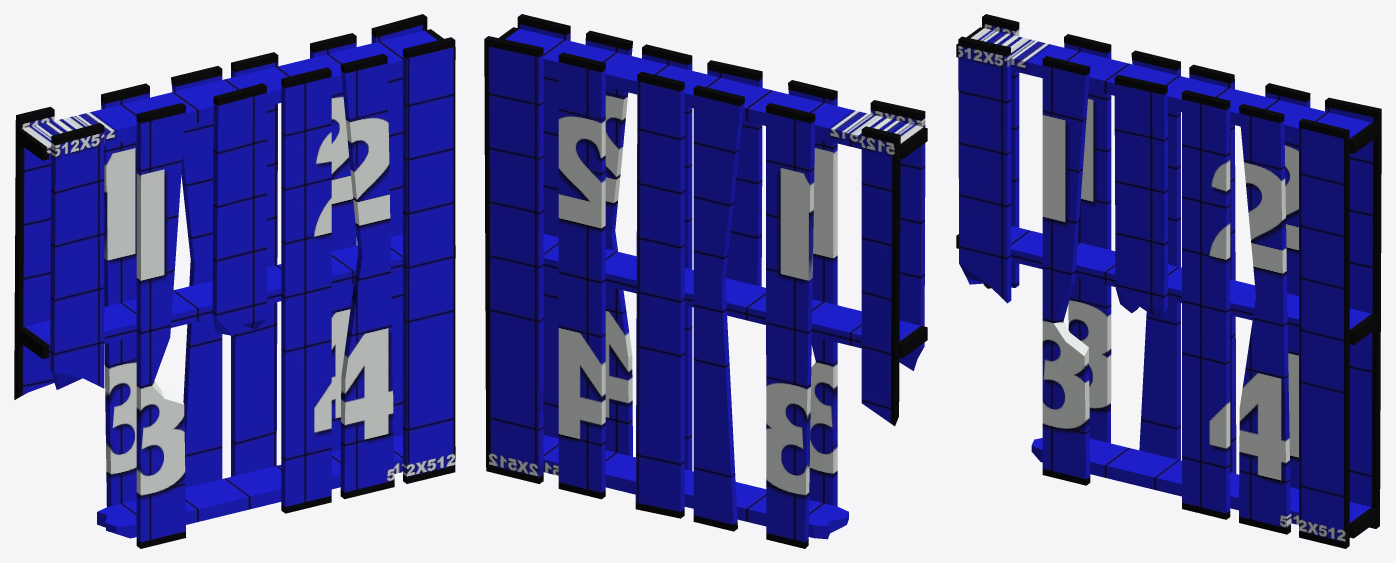
The model's file is pallet02.glb.
3 views of the same model, side by side, from view 1: azimuth 30°, elevation 25°; view 2: azimuth 150°, elevation 25°; view 3: azimuth 330°, elevation 25° (orthographic). The views are drawn at different scales.
Bounding box in the file's own units: 72 × 72 × 10.98.
Materials: 1 (1 with a texture image).
